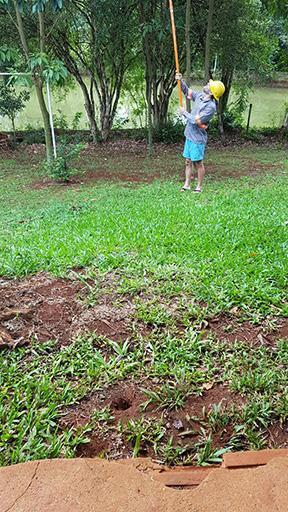helmet: (204, 78, 225, 103)
